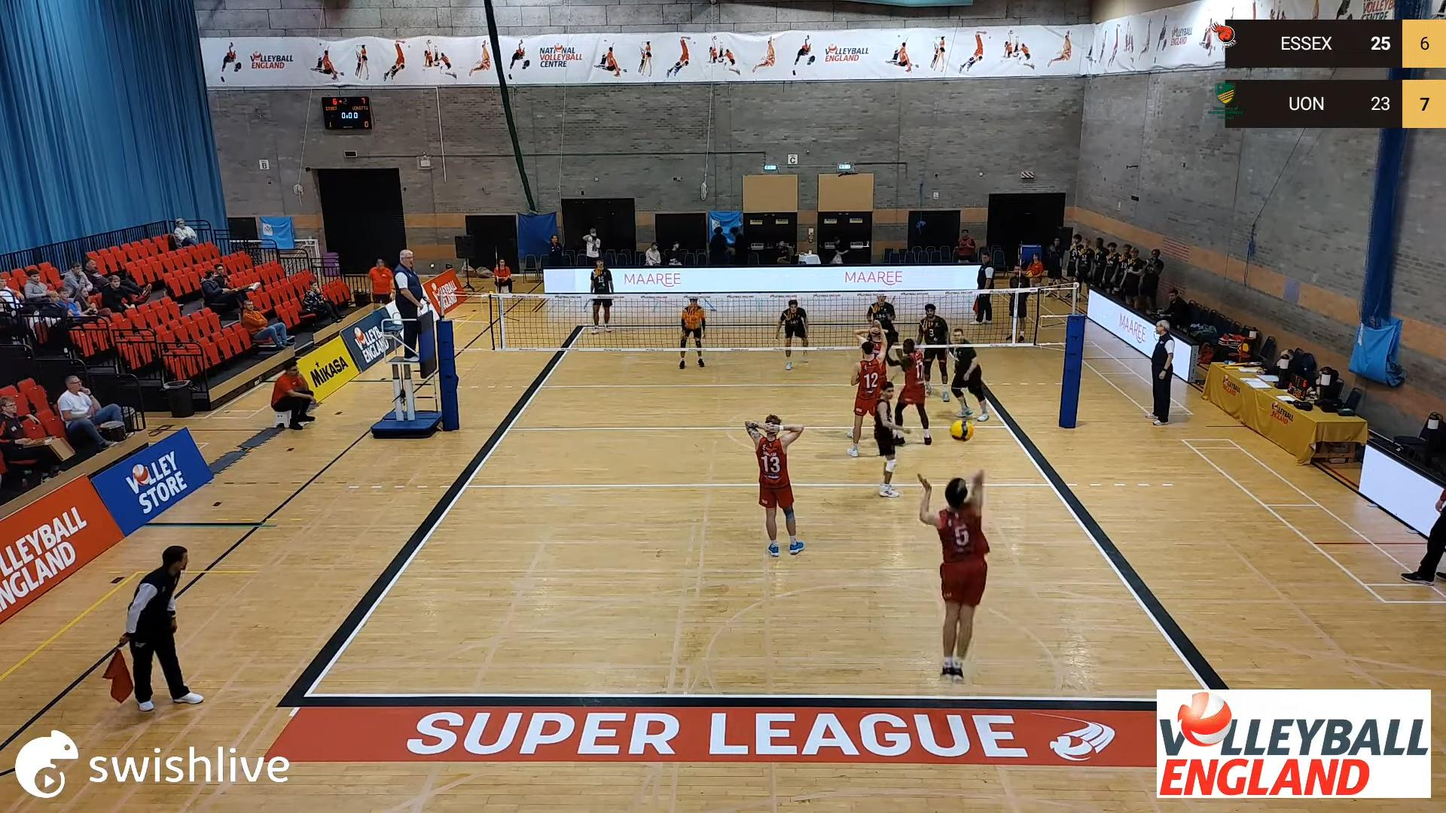Player: (745, 414, 804, 556), (848, 340, 887, 457), (889, 338, 931, 444), (950, 327, 988, 421), (873, 380, 902, 498), (917, 303, 949, 394), (777, 299, 807, 370), (679, 297, 706, 368), (866, 294, 898, 346)
Serve: (913, 468, 996, 688)
ball: (950, 423, 975, 440)
